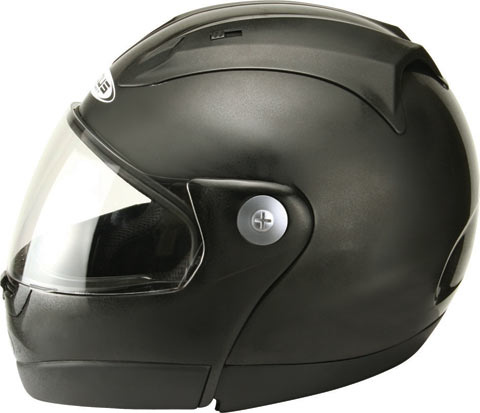helmet: (17, 2, 469, 386)
